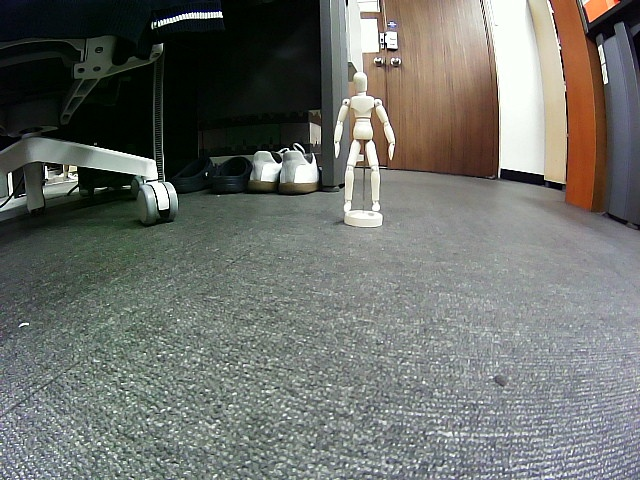person: (335, 71, 396, 213)
